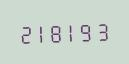eight: (48, 20, 62, 44)
nine: (78, 19, 92, 43)
one: (32, 21, 46, 44), (63, 20, 77, 43)
three: (93, 19, 107, 42)
two: (17, 21, 31, 45)
